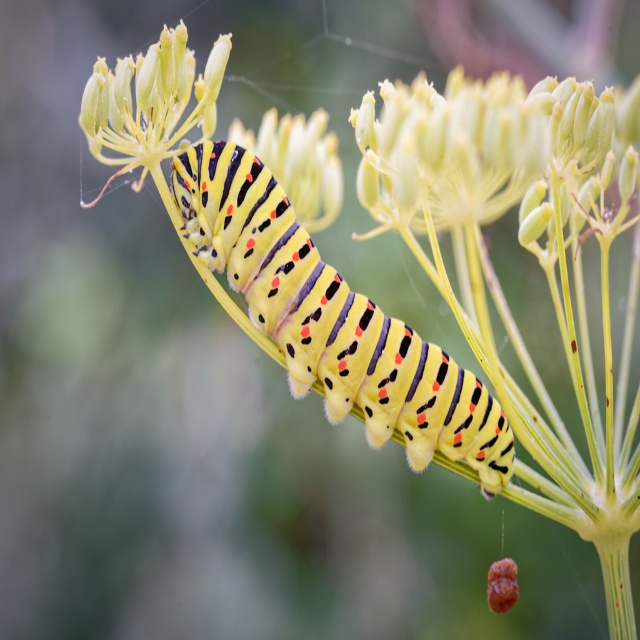Caterpillar: (168, 133, 518, 495)
